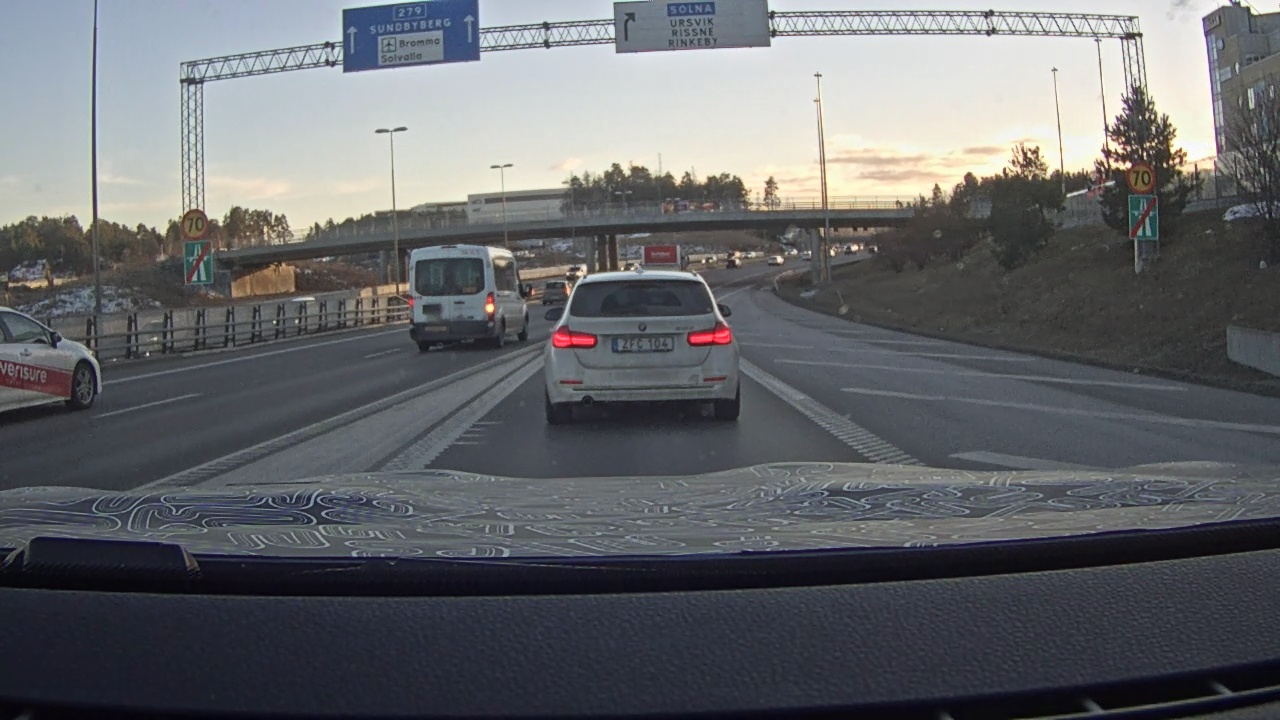Regular_End_Of_Motorway: (1130, 194, 1158, 241)
